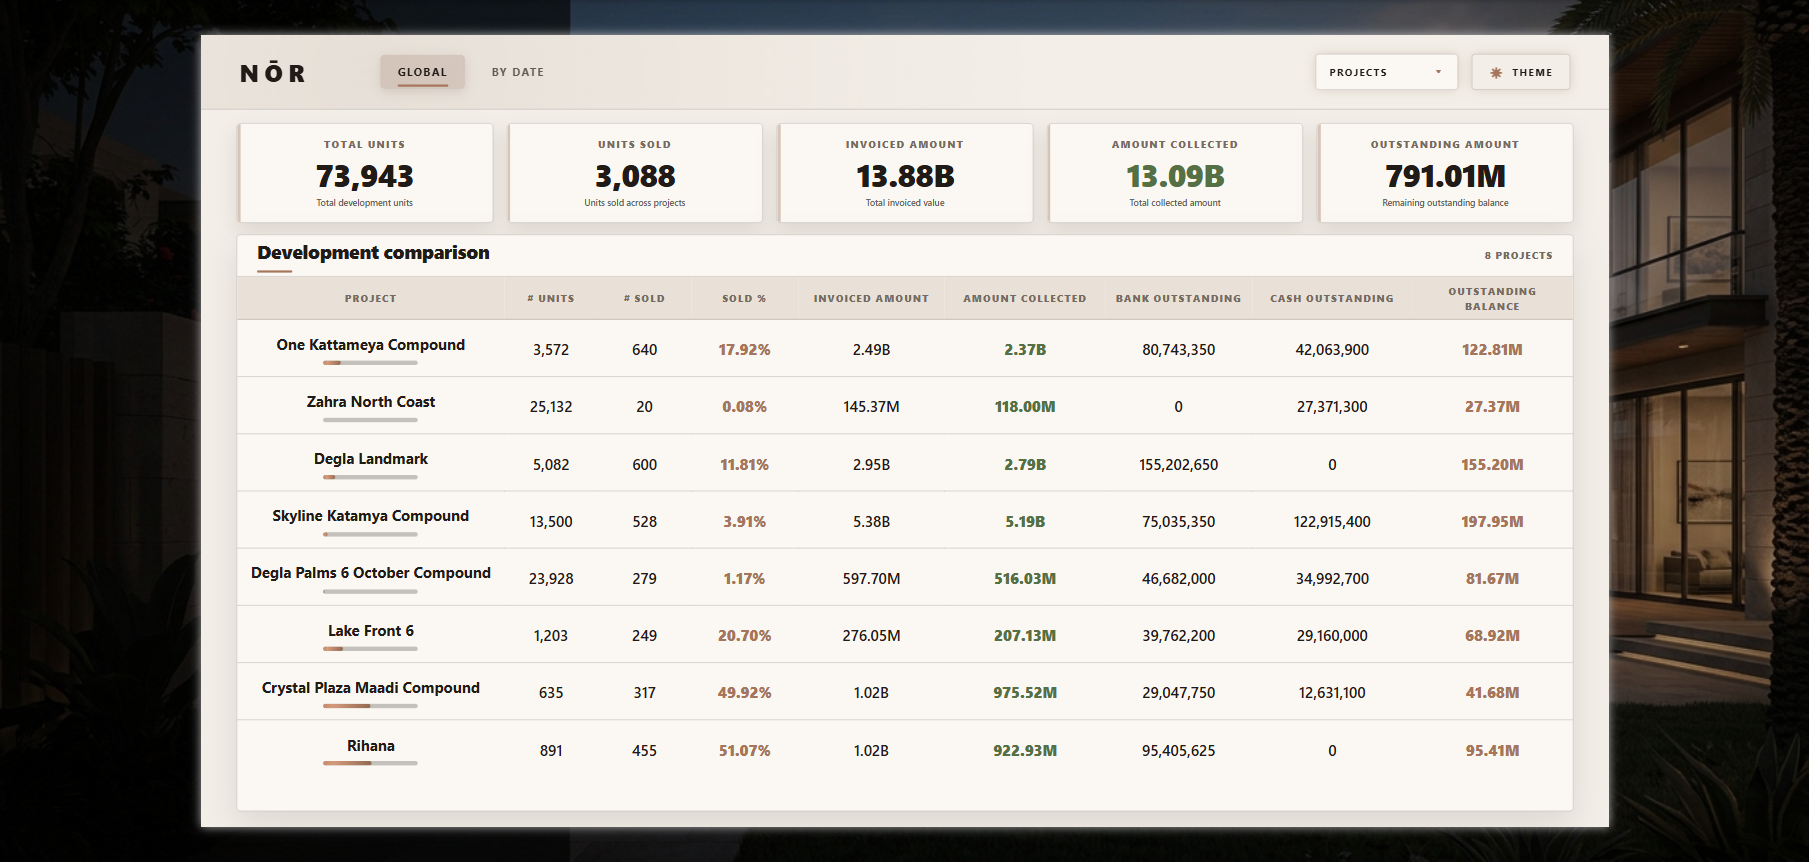

What the dashboard file says about the page in this screenshot:
{"tool":"powerbi","page":{"name":"Global Summary","canvas":[1280,720],"ordinal":1},"visuals":[{"type":"htmlContent443BE3AD55E043BF878BED274D3A6855","fields":{"content":["HTML Visuals.HTML_Global_Summary"]},"box":[0,0,1280,720],"z":0}]}

Visuals, with their boxes on the page's 1280x720 design canvas (x1, y1, x2, y2). These are canvas units, not pixel positions in the 1809x862 screenshot, which may show the page scaled, cropped or inside an application window:
htmlContent443BE3AD55E043BF878BED274D3A6855 - HTML Visuals.HTML_Global_Summary: 0,0,1280,720
